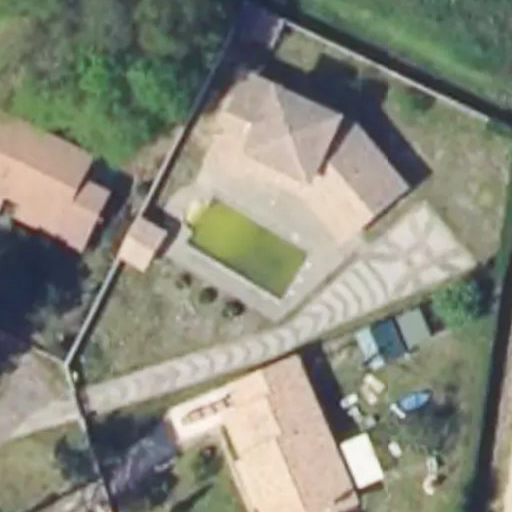pool: (182, 200, 309, 304)
